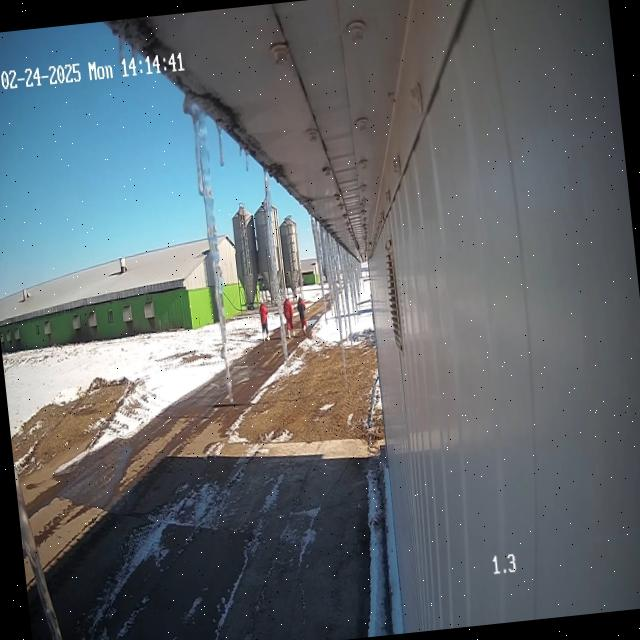Red uniform: (283, 296, 294, 337), (259, 300, 269, 340), (297, 296, 307, 334)
